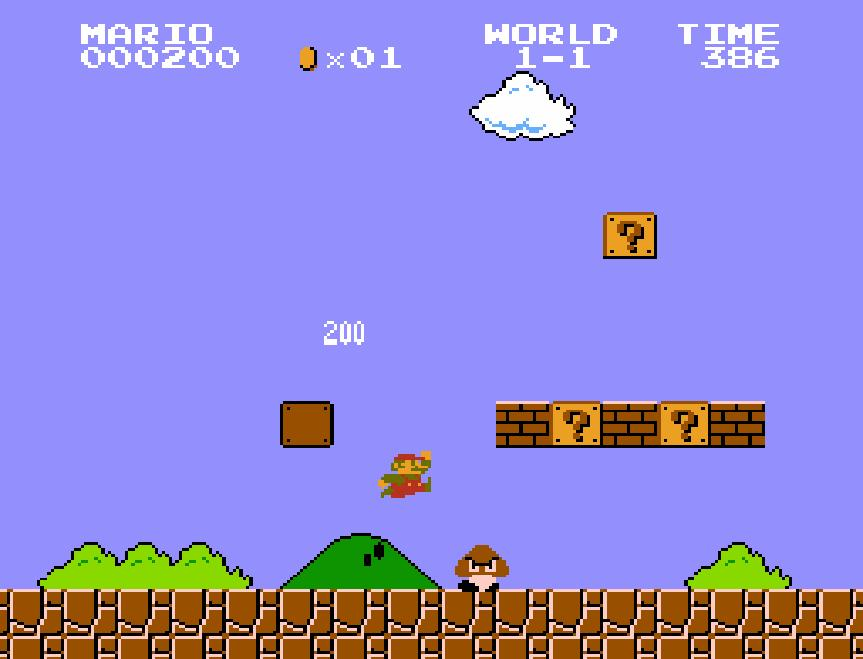little_mario: (376, 450, 434, 499)
